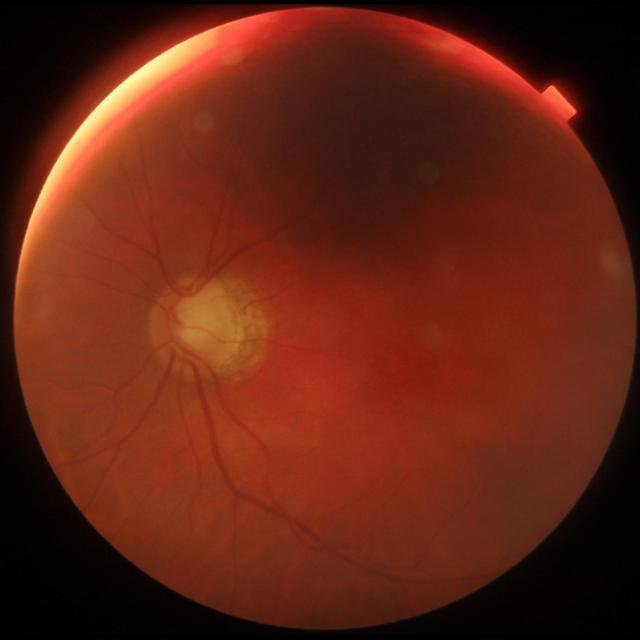OC: (176, 298, 216, 342)
OD: (150, 279, 241, 378)
